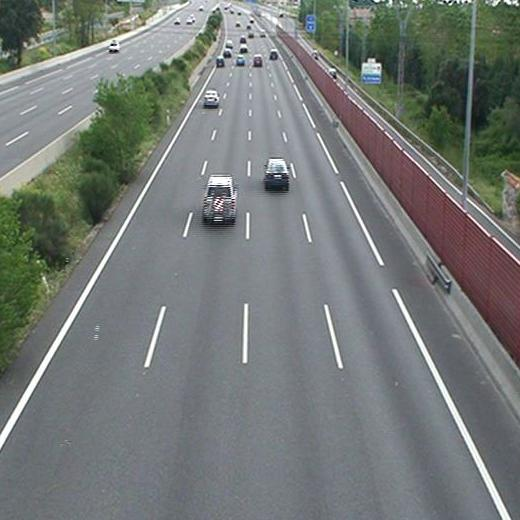car: (203, 177, 236, 219), (265, 159, 289, 184), (203, 90, 220, 106), (215, 57, 226, 67), (236, 56, 245, 66), (253, 55, 262, 65), (269, 50, 278, 58)
